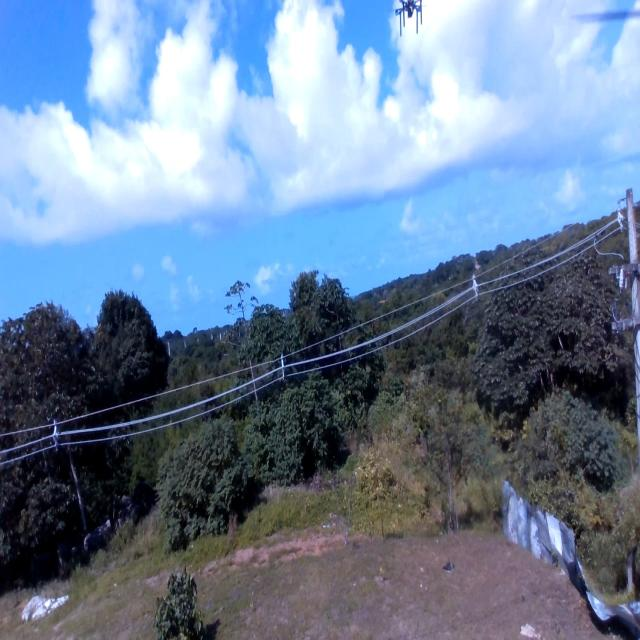-uav-: (391, 1, 430, 46)
